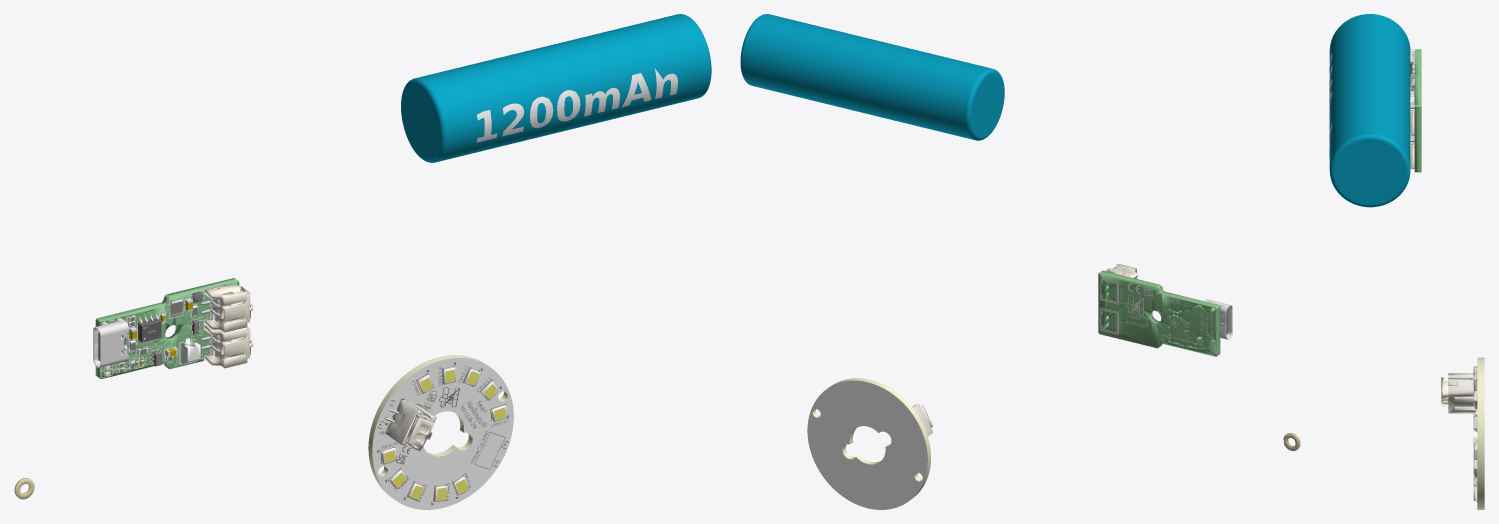
File: kit201lc-installation.glb
The picture shows the model from 3 angles, left to right: view 1: azimuth 30°, elevation 25°; view 2: azimuth 150°, elevation 25°; view 3: azimuth 270°, elevation 25°; orthographic projection. The views are drawn at different scales.
Parts seen in each view (by area): view 1: battery-body-material-27, led-material-0, driver-material-3, battery-body-material-28, driver-material-21, led-material-1, driver-material-13, led-material-22, driver-material-0, led-material-24, led-material-26; view 2: battery-body-material-27, led-material-0, driver-material-3, driver-material-0, led-material-22; view 3: battery-body-material-27, led-material-22, driver-material-3, led-material-26, led-material-0, led-end-plug-material-21, driver-material-21, battery-body-material-28.
Boxes of the visible parts, x1,y1,x2,y2 form: battery-body-material-27: (401, 14, 711, 162); led-material-0: (372, 358, 513, 509); driver-material-3: (95, 278, 239, 379); battery-body-material-28: (476, 69, 677, 142); driver-material-21: (204, 284, 249, 368); led-material-1: (377, 362, 508, 504); driver-material-13: (93, 318, 145, 367); led-material-22: (368, 355, 507, 496); driver-material-0: (100, 285, 221, 378); led-material-24: (384, 370, 505, 500); led-material-26: (386, 400, 436, 451); battery-body-material-27: (740, 14, 1004, 140); led-material-0: (807, 380, 927, 509); driver-material-3: (1098, 270, 1220, 356); driver-material-0: (1100, 277, 1215, 353); led-material-22: (812, 378, 930, 498); battery-body-material-27: (1329, 14, 1410, 207); led-material-22: (1477, 357, 1484, 509); driver-material-3: (1414, 49, 1421, 172); led-material-26: (1448, 373, 1476, 413); led-material-0: (1473, 366, 1477, 500); led-end-plug-material-21: (1441, 377, 1462, 406); driver-material-21: (1410, 90, 1414, 166); battery-body-material-28: (1329, 53, 1332, 157).
Size of the model in its own units: 15.77 by 11.18 by 3.46.
